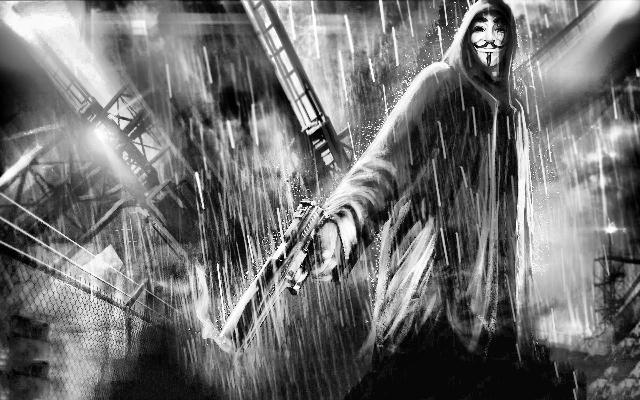pistol: (213, 198, 331, 344)
